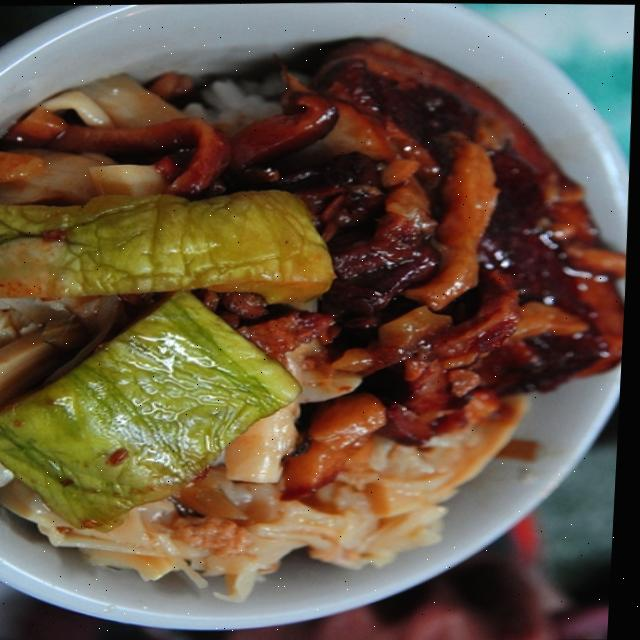猪肉菜式: (0, 0, 640, 631)
